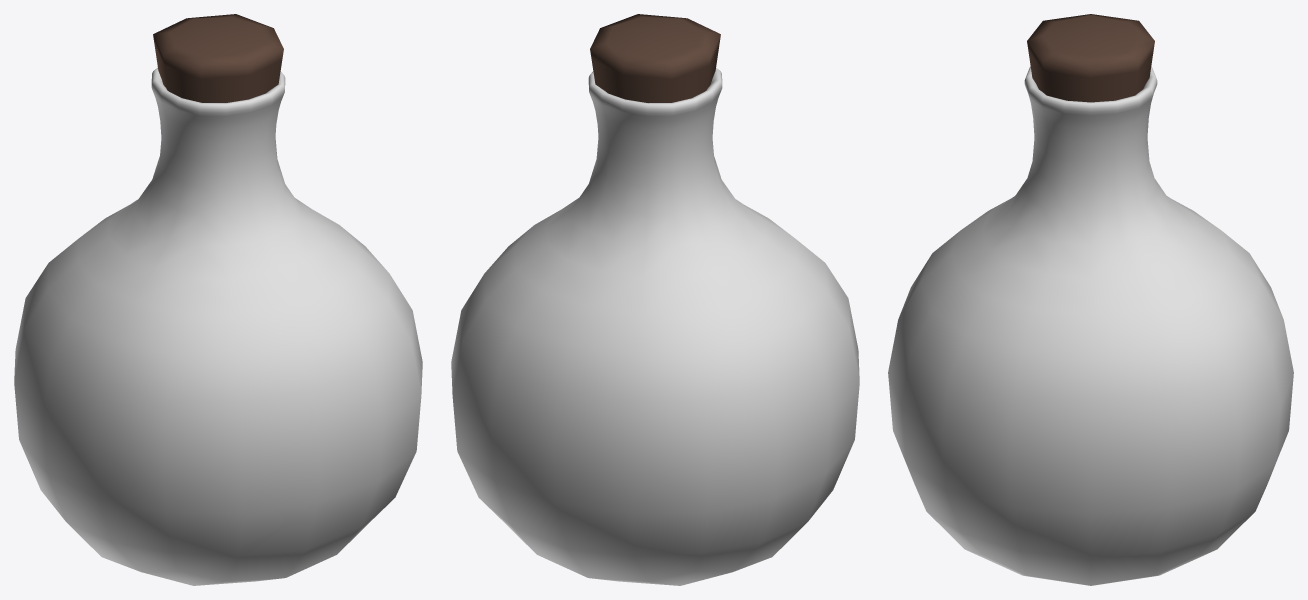
File: potion-1.glb
3 views of the same model, side by side, from view 1: azimuth 30°, elevation 25°; view 2: azimuth 150°, elevation 25°; view 3: azimuth 270°, elevation 25° (orthographic).
Visible parts, largest first — view 1: Potion1_Filled; view 2: Potion1_Filled; view 3: Potion1_Filled.
Boxes of the visible parts, left/top/right/bottom form: Potion1_Filled: left=14, top=14, right=422, bottom=585; Potion1_Filled: left=451, top=14, right=859, bottom=585; Potion1_Filled: left=888, top=14, right=1293, bottom=585.
Bounding box in the file's own units: 0.6685 × 0.9629 × 0.6685.
